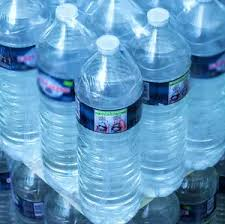Botella: (76, 34, 140, 223)
